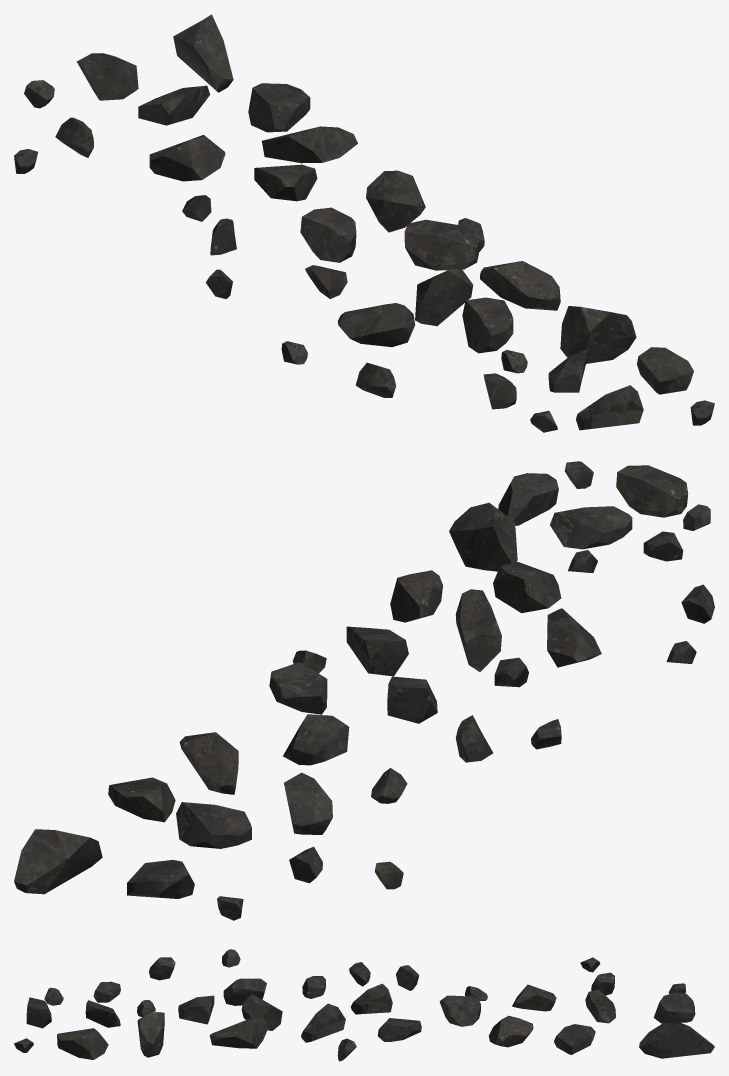
3 renders of one model, top to bottom at view 1: azimuth 30°, elevation 25°; view 2: azimuth 150°, elevation 25°; view 3: azimuth 270°, elevation 25°, orthographic. The views are drawn at different scales.
Visible parts, largest first — view 1: SM_DR_Rubble_Small_03_LOD0; view 2: SM_DR_Rubble_Small_03_LOD0; view 3: SM_DR_Rubble_Small_03_LOD0.
Boxes of the visible parts, <box> form: SM_DR_Rubble_Small_03_LOD0: <box>14,14,714,432</box>; SM_DR_Rubble_Small_03_LOD0: <box>14,461,714,920</box>; SM_DR_Rubble_Small_03_LOD0: <box>14,949,714,1061</box>.
Bounding box in the file's own units: 2.33 × 0.4997 × 7.46.
Materials: 1 (1 with a texture image).
